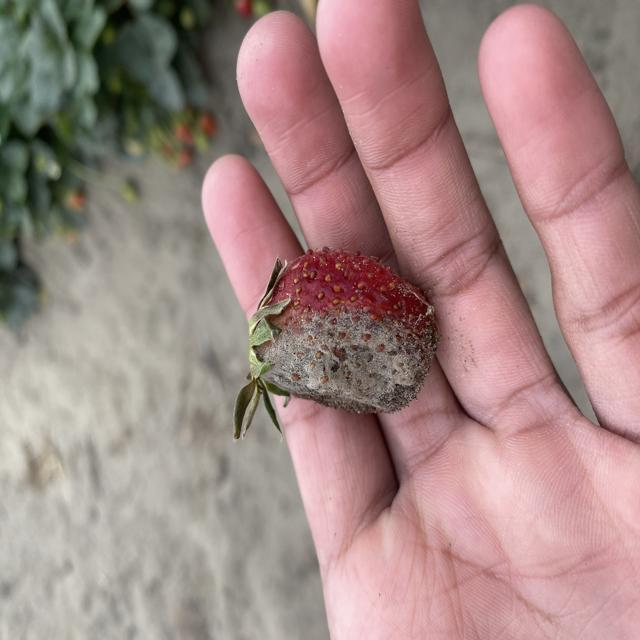Botrytis: (254, 247, 440, 417)
